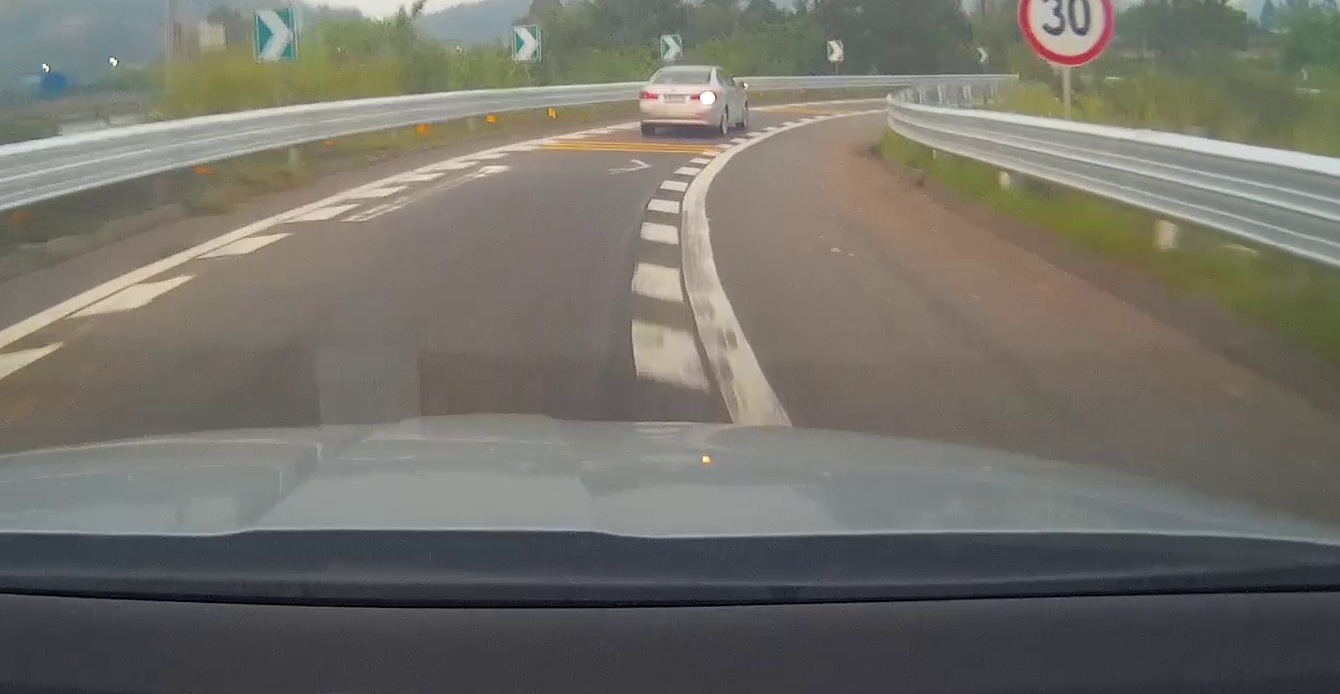L_light: (640, 91, 659, 100)
R_light: (690, 91, 715, 104)
T_light: (674, 79, 686, 84)
day-right: (639, 65, 716, 136)
